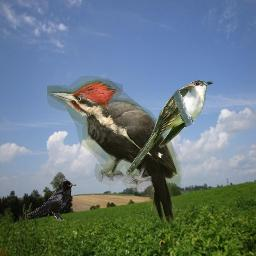Crow: (26, 180, 77, 221)
Cuckoo: (125, 79, 213, 178)
Woodpecker: (47, 76, 187, 227)
